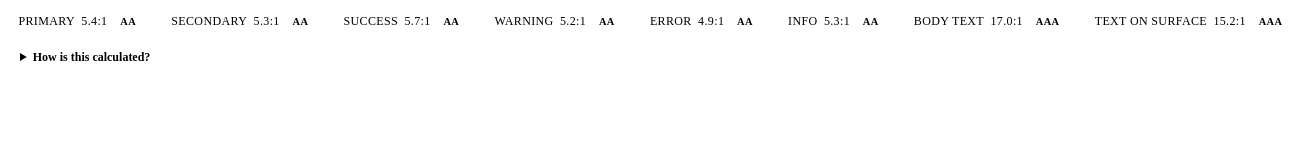
Test: ContrastReport › keeps only one popover open at a time
Click the button with class "contrast-check__trigger" showing "Primary 5.4:1 AA" at [80, 21], box [8, 8, 153, 34]
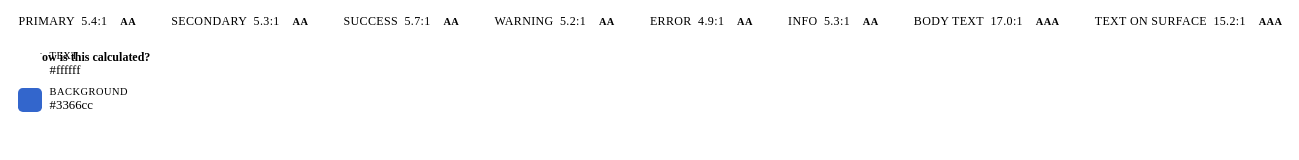
Click the button with class "contrast-check__trigger" showing "Secondary 5.3:1 AA" at [243, 21], box [161, 8, 325, 34]
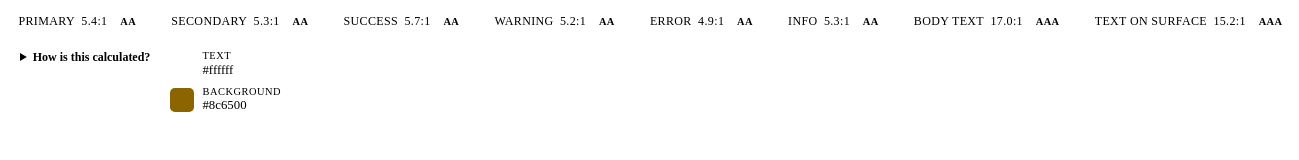
Check: the element with class "contrast-check__popover" is shown, box [170, 50, 281, 112]
